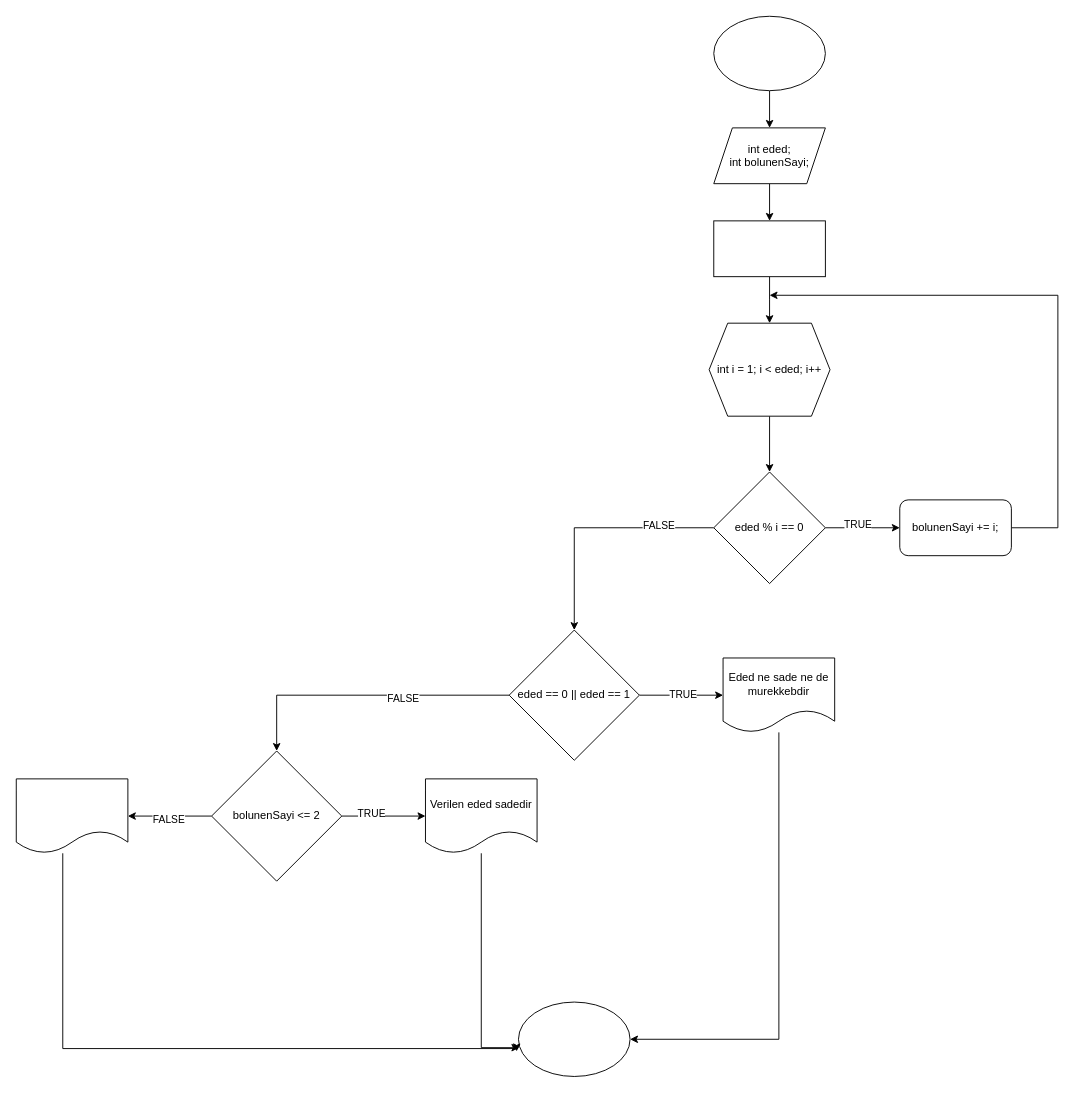
Some shapes in this 1082 by 1093 pixel diagram are drawn without their labels. Here are the shapes that lost their labels. From the top down, the box of each, then its label:
(713, 15, 825, 91): start
(713, 220, 825, 277): user eded daxil edir
(15, 778, 128, 853): Verilen eded murekkebdir
(518, 1001, 630, 1076): end
